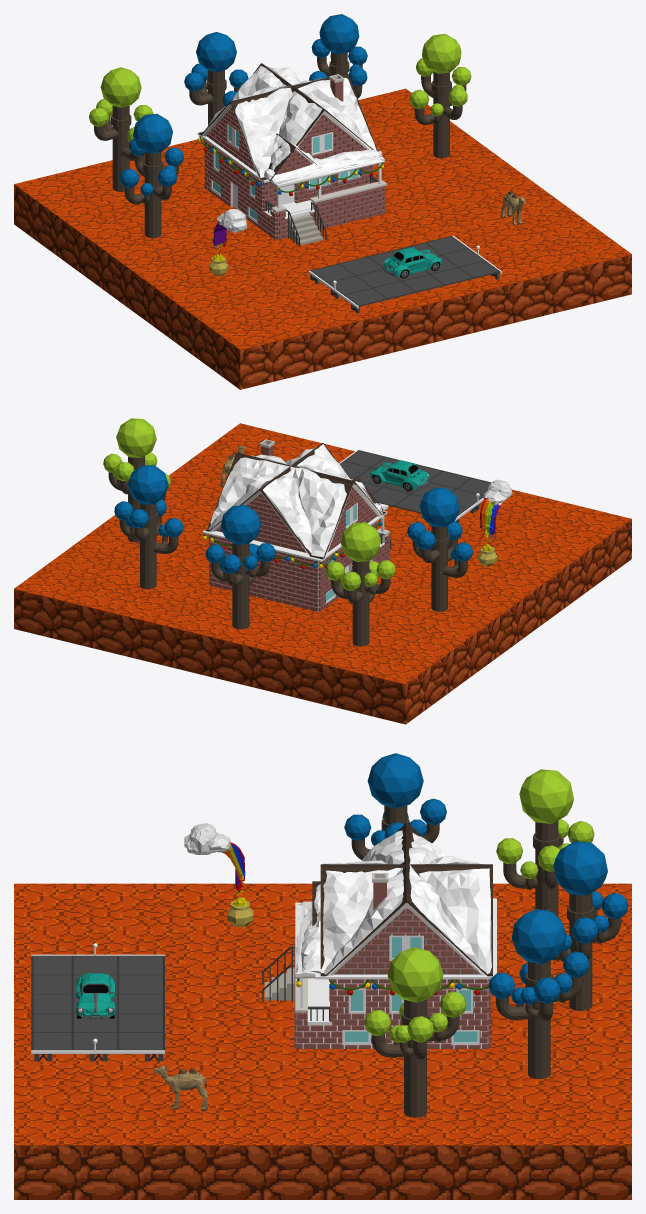
3 renders of one model, top to bottom at view 1: azimuth 30°, elevation 25°; view 2: azimuth 150°, elevation 25°; view 3: azimuth 270°, elevation 25°, orthographic. The views are drawn at different scales.
Visible parts, largest first — view 1: Cube.001, Cube.1419, VEHICLES_VOLKSWAGEN, OBJRANDOM_RAINBOW, ANIMAL_CAMELLO; view 2: Cube.001, Cube.1419, OBJRANDOM_RAINBOW, VEHICLES_VOLKSWAGEN; view 3: Cube.001, Cube.1419, OBJRANDOM_RAINBOW, VEHICLES_VOLKSWAGEN, ANIMAL_CAMELLO.
Part boxes in pixels (<box>): Cube.001: <box>14,14,631,389</box>; Cube.1419: <box>197,63,387,246</box>; VEHICLES_VOLKSWAGEN: <box>382,247,442,278</box>; OBJRANDOM_RAINBOW: <box>209,209,247,276</box>; ANIMAL_CAMELLO: <box>501,191,525,225</box>; Cube.001: <box>14,418,631,724</box>; Cube.1419: <box>202,439,391,611</box>; OBJRANDOM_RAINBOW: <box>478,479,512,566</box>; VEHICLES_VOLKSWAGEN: <box>370,460,429,491</box>; Cube.001: <box>14,753,631,1199</box>; Cube.1419: <box>262,823,497,1048</box>; OBJRANDOM_RAINBOW: <box>184,823,253,926</box>; VEHICLES_VOLKSWAGEN: <box>76,973,115,1019</box>; ANIMAL_CAMELLO: <box>153,1064,207,1111</box>.
Size of the model in its own units: 4000 by 1672 by 4000.
Materials: 44 (4 with a texture image).
